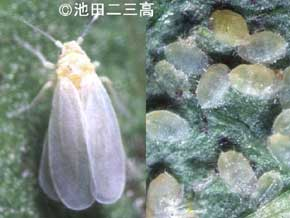whitefly: (15, 18, 125, 210)
